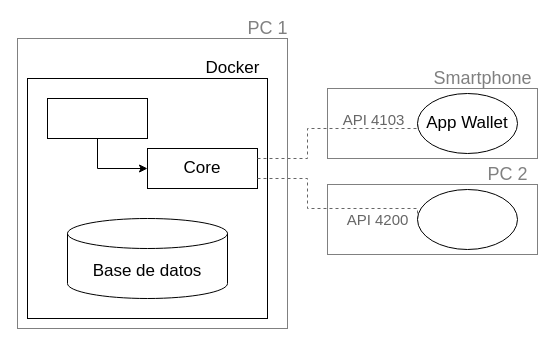
Image size: 555x346. Some labels were removed from this diagram. The centre of each missing label's shape, as x and y in pixels:
"Deployer" goes at pixel 97 118.
"Explorer" goes at pixel 467 219.
